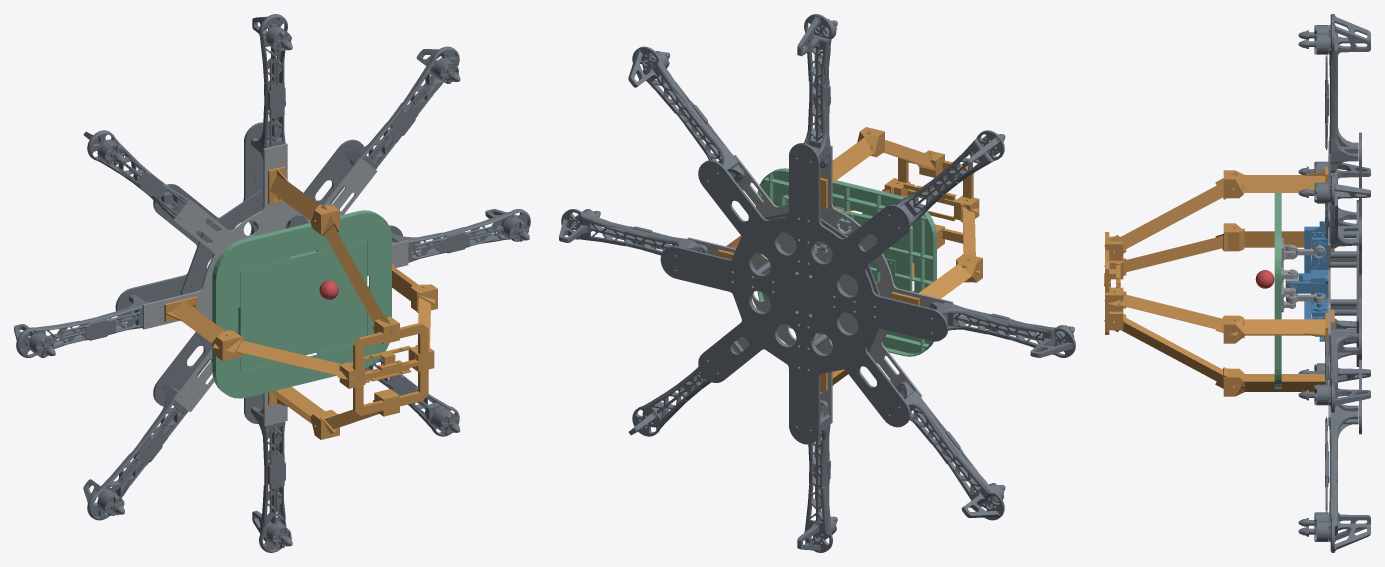
File: uav_camara_visual.glb
3 views of the same model, side by side, from view 1: azimuth 30°, elevation 25°; view 2: azimuth 150°, elevation 25°; view 3: azimuth 270°, elevation 25° (orthographic). The views are drawn at different scales.
Parts seen in each view (by area): view 1: 044 REF pantalla:1, 025 BANDEJA mesa mitad B:1, 024 BANDEJA mesa mitad A:1, 056 CAM nucleo v7:1, 001 M7 - diagonal 225 grados:1, 003 M5 - diagonal 45 grados:1, 021 PISO2 Q2:1, 007 M5 - diagonal 45 grados (1):1, 005 M7 - diagonal 225 grados (1):1, 004 M6 - diagonal 135 grados (1):1, 006 M8 - diagonal 315 grados (1):1, 017 PISO2 Q3:1 (+15 smaller); view 2: 010 IMPRIMIBLE base_Q2:1, 011 IMPRIMIBLE base_Q3:1, 009 IMPRIMIBLE base_Q1:1, 012 IMPRIMIBLE base_Q4:1, 025 BANDEJA mesa mitad B:1, 001 M7 - diagonal 225 grados:1, 003 M5 - diagonal 45 grados:1, 007 M5 - diagonal 45 grados (1):1, 004 M6 - diagonal 135 grados (1):1, 005 M7 - diagonal 225 grados (1):1, 006 M8 - diagonal 315 grados (1):1, 000 M6 - diagonal 135 grados:1 (+13 smaller); view 3: 007 M5 - diagonal 45 grados (1):1, 002 M8 - diagonal 315 grados:1, 006 M8 - diagonal 315 grados (1):1, 047 CAM torre +X (1):1, 049 CAM torre +Y (1):1, 003 M5 - diagonal 45 grados:1, 053 CAM torre -Y (1):1, 056 CAM nucleo v7:1, 022 BANDEJA pilar y soportes de servo:1, 050 CAM pata +Y:1, 054 CAM pata -Y:1, 051 CAM torre -X (1):1 (+13 smaller).
Part boxes in pixels (x1,y1,x2,y2): 044 REF pantalla:1: (239, 240, 367, 370); 025 BANDEJA mesa mitad B:1: (212, 225, 303, 398); 024 BANDEJA mesa mitad A:1: (300, 210, 391, 383); 056 CAM nucleo v7:1: (337, 315, 434, 416); 001 M7 - diagonal 225 grados:1: (83, 383, 197, 520); 003 M5 - diagonal 45 grados:1: (343, 46, 460, 172); 021 PISO2 Q2:1: (182, 143, 369, 250); 007 M5 - diagonal 45 grados (1):1: (251, 14, 292, 159); 005 M7 - diagonal 225 grados (1):1: (251, 406, 292, 552); 004 M6 - diagonal 135 grados (1):1: (14, 294, 152, 357); 006 M8 - diagonal 315 grados (1):1: (391, 209, 530, 262); 017 PISO2 Q3:1: (142, 210, 225, 405); 010 IMPRIMIBLE base_Q2:1: (803, 143, 948, 328); 011 IMPRIMIBLE base_Q3:1: (798, 294, 948, 444); 009 IMPRIMIBLE base_Q1:1: (660, 143, 809, 294); 012 IMPRIMIBLE base_Q4:1: (660, 259, 803, 443); 025 BANDEJA mesa mitad B:1: (845, 183, 936, 356); 001 M7 - diagonal 225 grados:1: (895, 381, 1005, 520); 003 M5 - diagonal 45 grados:1: (628, 46, 744, 182); 007 M5 - diagonal 45 grados (1):1: (797, 14, 837, 167); 004 M6 - diagonal 135 grados (1):1: (929, 301, 1075, 357); 005 M7 - diagonal 225 grados (1):1: (797, 400, 837, 552); 006 M8 - diagonal 315 grados (1):1: (559, 209, 707, 255); 000 M6 - diagonal 135 grados:1: (897, 130, 1005, 223); 007 M5 - diagonal 45 grados (1):1: (1298, 23, 1370, 172); 002 M8 - diagonal 315 grados:1: (1298, 405, 1370, 552); 006 M8 - diagonal 315 grados (1):1: (1298, 329, 1370, 412); 047 CAM torre +X (1):1: (1215, 313, 1328, 343); 049 CAM torre +Y (1):1: (1215, 167, 1328, 199); 003 M5 - diagonal 45 grados:1: (1298, 175, 1370, 248); 053 CAM torre -Y (1):1: (1215, 367, 1328, 396); 056 CAM nucleo v7:1: (1105, 232, 1126, 334); 022 BANDEJA pilar y soportes de servo:1: (1286, 221, 1328, 341); 050 CAM pata +Y:1: (1104, 185, 1234, 251); 054 CAM pata -Y:1: (1104, 318, 1223, 381); 051 CAM torre -X (1):1: (1215, 223, 1311, 251).
Bounding box in the file's own units: 0.758 × 0.758 × 0.3538.
